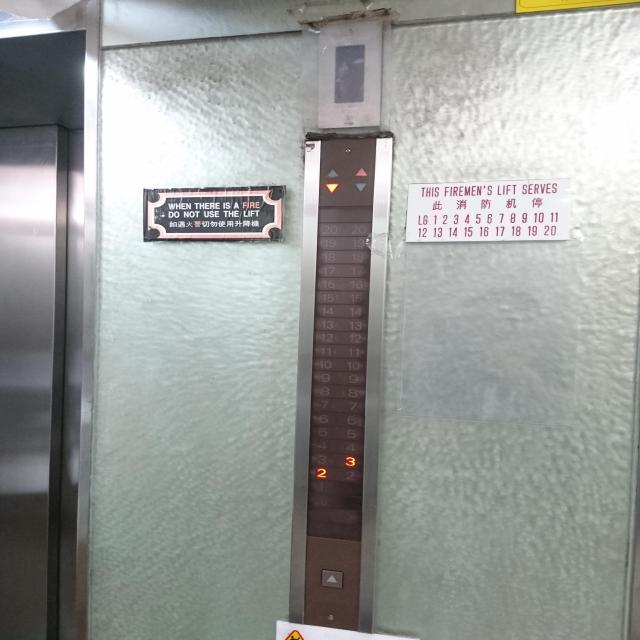1: (307, 478, 333, 496)
10: (341, 357, 368, 374), (310, 356, 337, 372)
11: (341, 343, 368, 360), (311, 342, 337, 359)
12: (311, 329, 338, 346), (342, 330, 368, 346)
13: (342, 316, 369, 334), (312, 316, 339, 332)
14: (312, 302, 340, 319), (343, 303, 370, 319)
15: (313, 289, 340, 305), (343, 290, 370, 306)
16: (344, 276, 370, 293), (314, 276, 340, 292)
17: (344, 262, 371, 279), (314, 262, 341, 278)
18: (315, 249, 342, 265), (345, 249, 371, 265)
19: (345, 235, 372, 251), (316, 235, 342, 251)
2: (337, 466, 365, 486), (306, 465, 332, 482)
20: (346, 220, 372, 238), (316, 221, 340, 238)
3: (338, 452, 364, 471), (307, 450, 333, 468)
4: (338, 438, 366, 457), (308, 436, 332, 454)
5: (339, 424, 366, 443), (308, 423, 333, 440)
6: (339, 411, 366, 429), (308, 409, 334, 427)
7: (339, 396, 367, 415), (308, 397, 334, 413)
8: (339, 384, 366, 401), (309, 383, 335, 399)
9: (310, 369, 338, 386), (340, 370, 368, 387)
G: (305, 492, 332, 510)
up: (320, 568, 344, 590)
